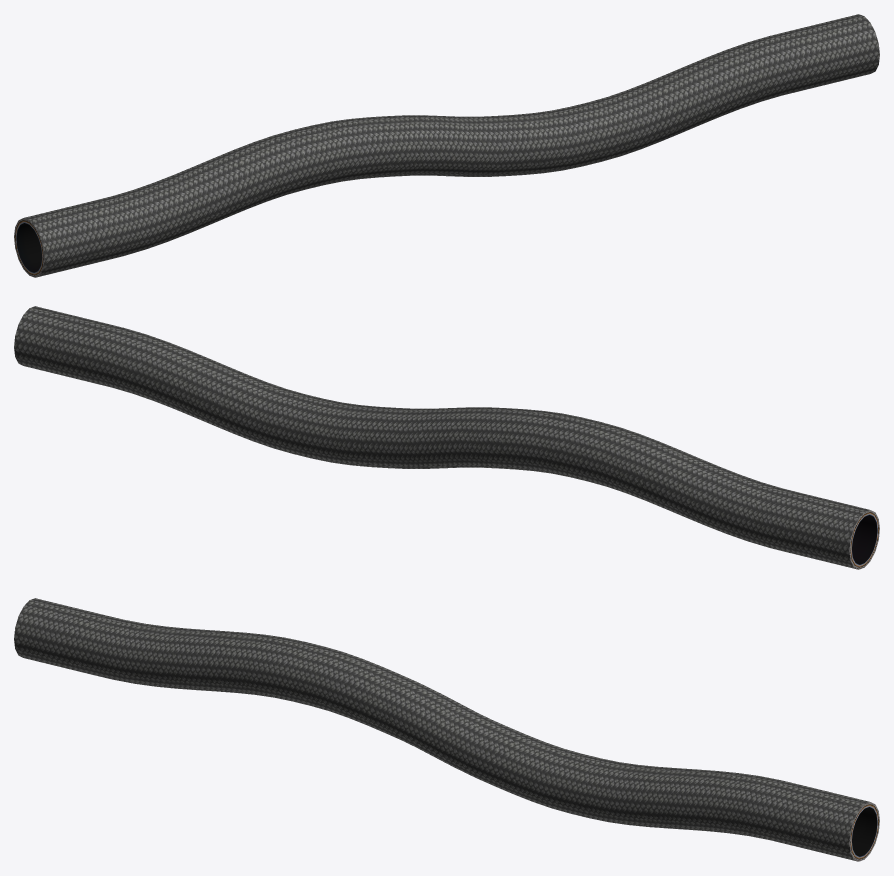
The picture shows the model from 3 angles, top to bottom: view 1: azimuth 30°, elevation 25°; view 2: azimuth 150°, elevation 25°; view 3: azimuth 330°, elevation 25°; orthographic projection.
Visible parts, largest first — view 1: ProBlack_SB_Aramid-16; view 2: ProBlack_SB_Aramid-16; view 3: ProBlack_SB_Aramid-16.
Part boxes in pixels (bbox=[...]): ProBlack_SB_Aramid-16: bbox=[14, 14, 879, 277]; ProBlack_SB_Aramid-16: bbox=[14, 306, 879, 569]; ProBlack_SB_Aramid-16: bbox=[14, 598, 879, 861].
Bounding box in the file's own units: 0.5 × 0.0571 × 0.0318.
Materials: 2 (2 with a texture image).
